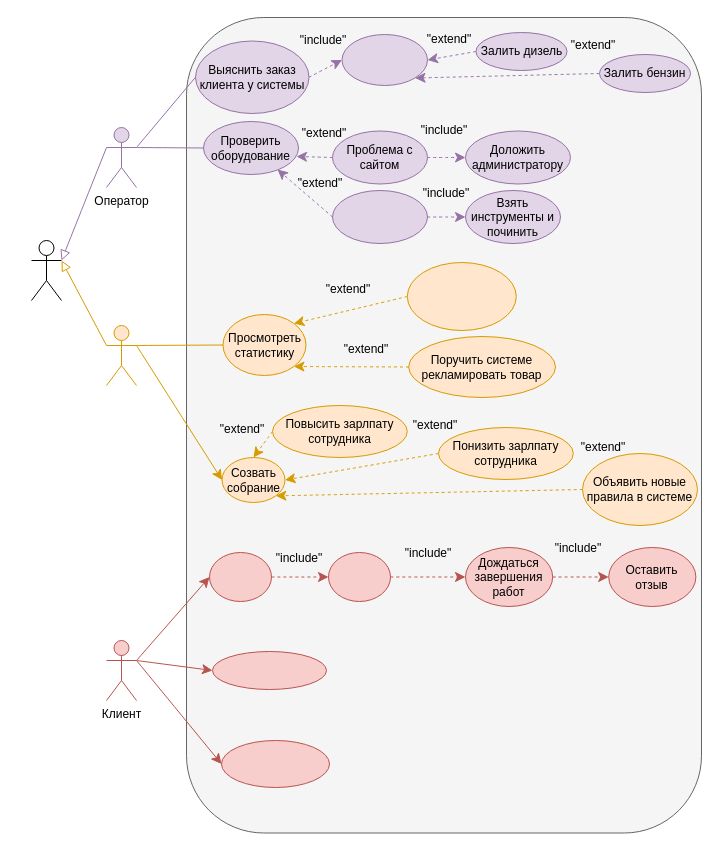
This 719x851 diagram has some shape labels left out. Each missing label, with the centre of its shape:
Администратор: the point at 121,355
Оплата прошла в системе: the point at 384,60
Оплатить заказ: the point at 359,577
Оставить чаевые: the point at 275,764
Подать жалобу: the point at 269,670
Проблема с механизмом: the point at 380,217
Распределить товары на новые места: the point at 461,296
Сделать заказ: the point at 240,577
Сотрудник: the point at 46,270
